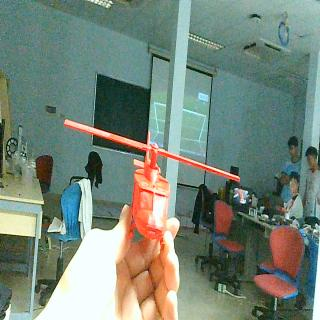Helicopter: (63, 115, 240, 251)
